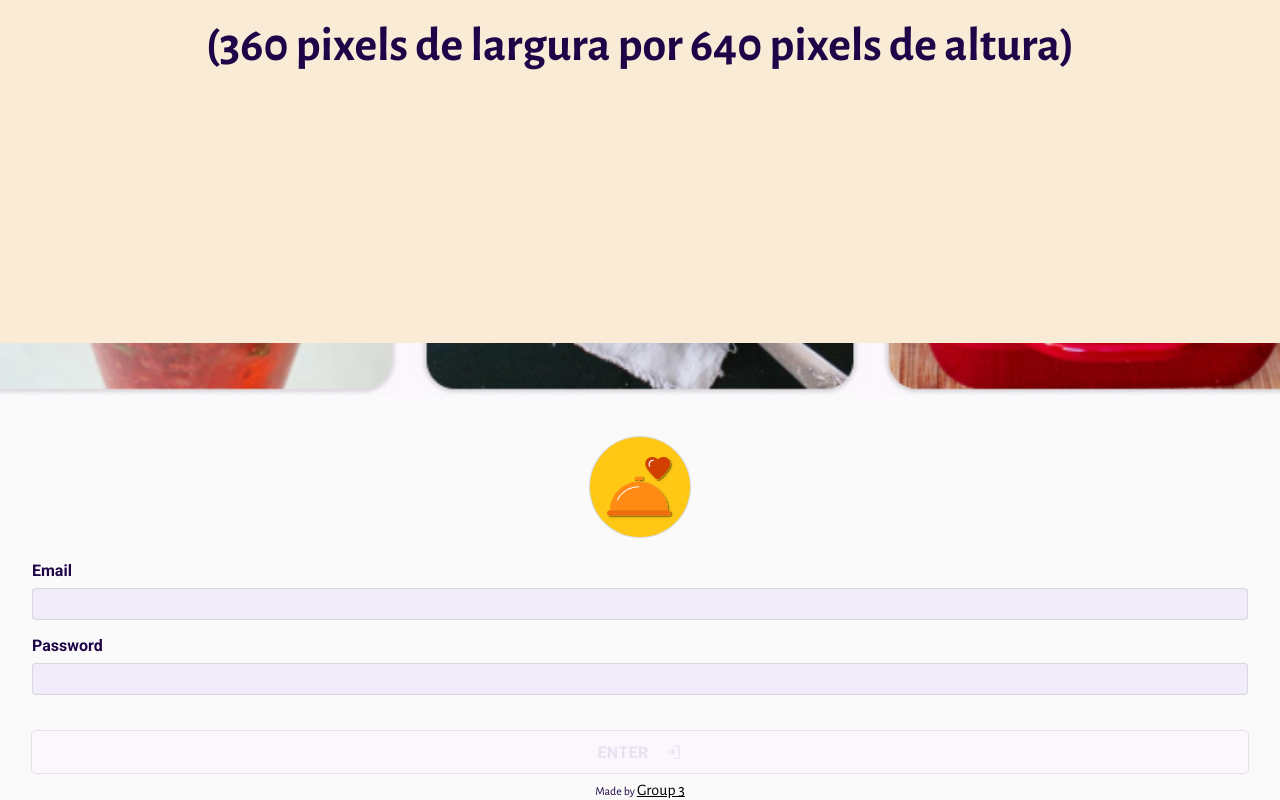
Test: 1 - Testa a página Login › Verifica se é possível digitar nos inputs de email e senha
(page scrolled)
Expected: the button with test id "login-submit-btn" is disabled, [32, 731, 1248, 773]
Type "email@teste.com" into the field with test id "email-input" at (640, 604), box [32, 588, 1248, 620]
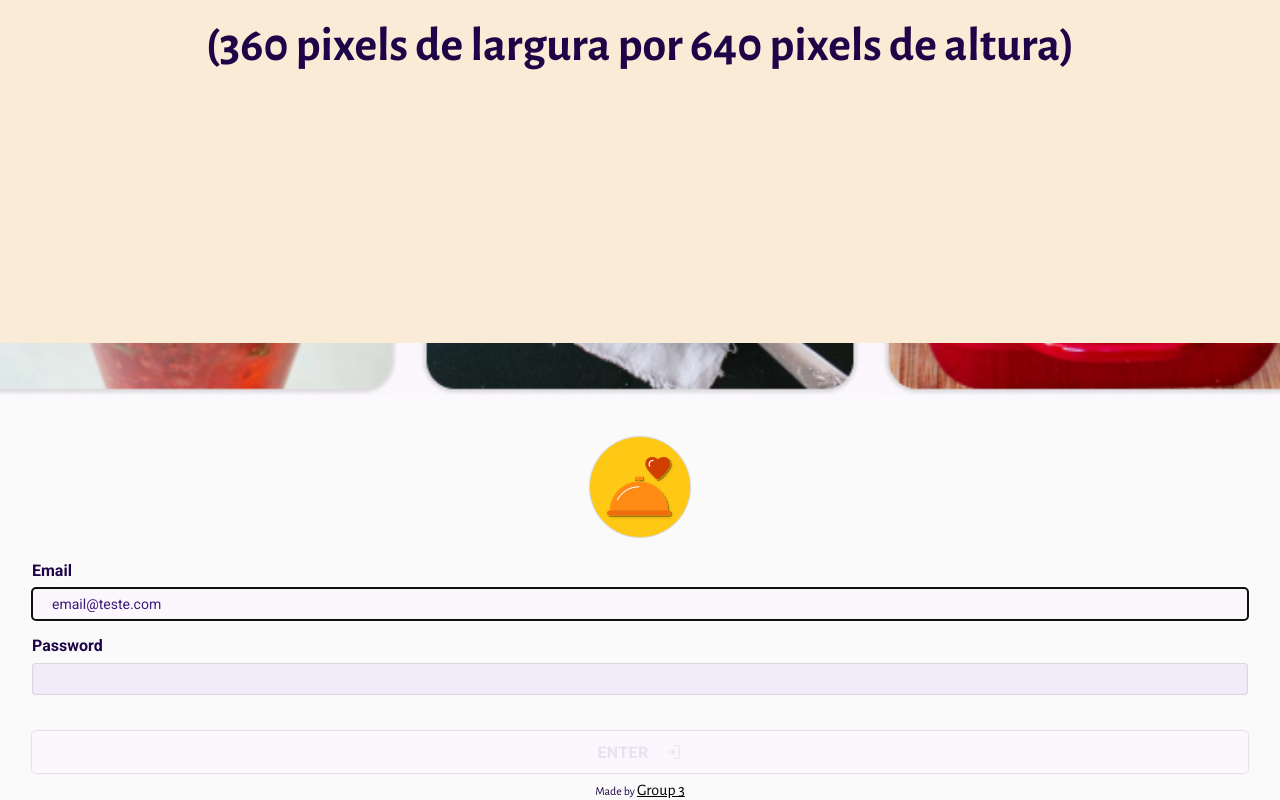
Type "1234567" into the password field with test id "password-input" at (640, 679), box [32, 663, 1248, 695]
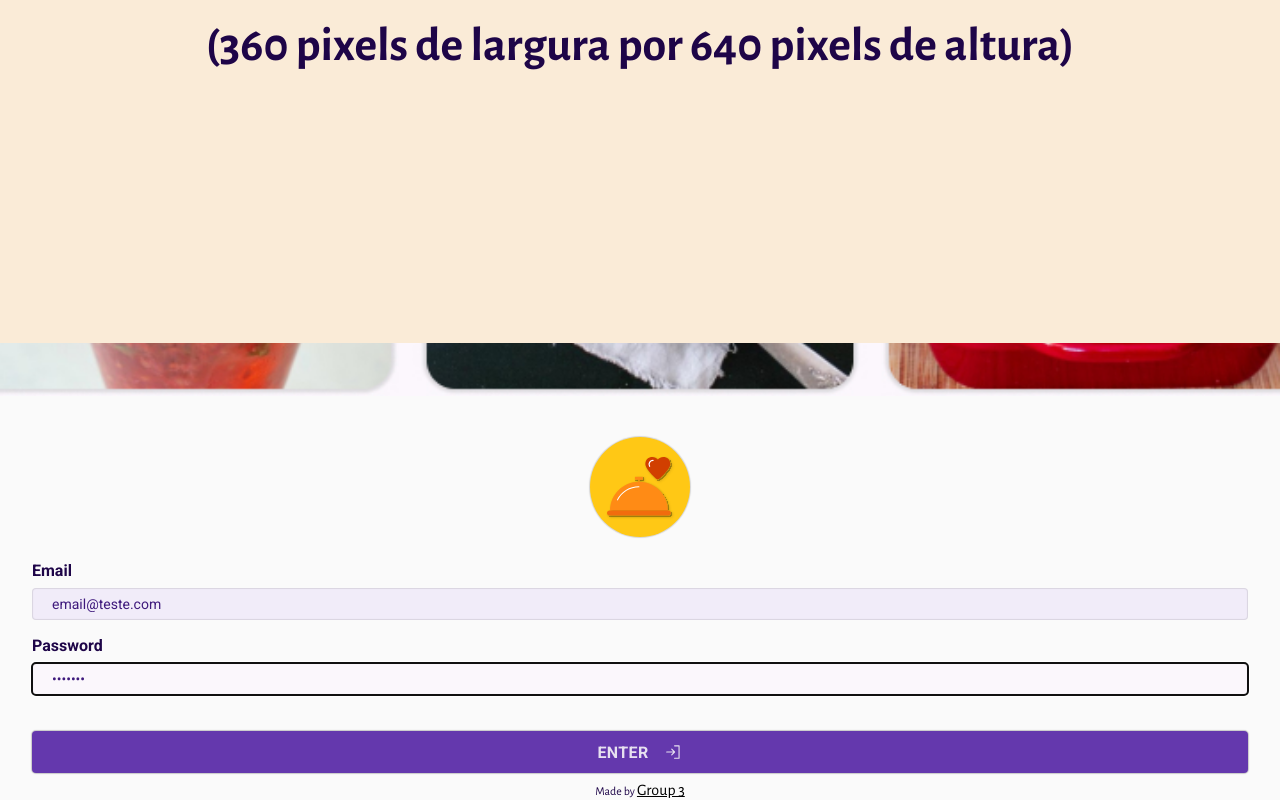
Expected: the button with test id "login-submit-btn" is enabled, [32, 731, 1248, 773]
